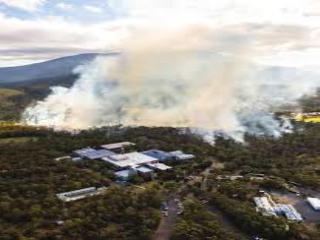smoke: (18, 33, 304, 147)
